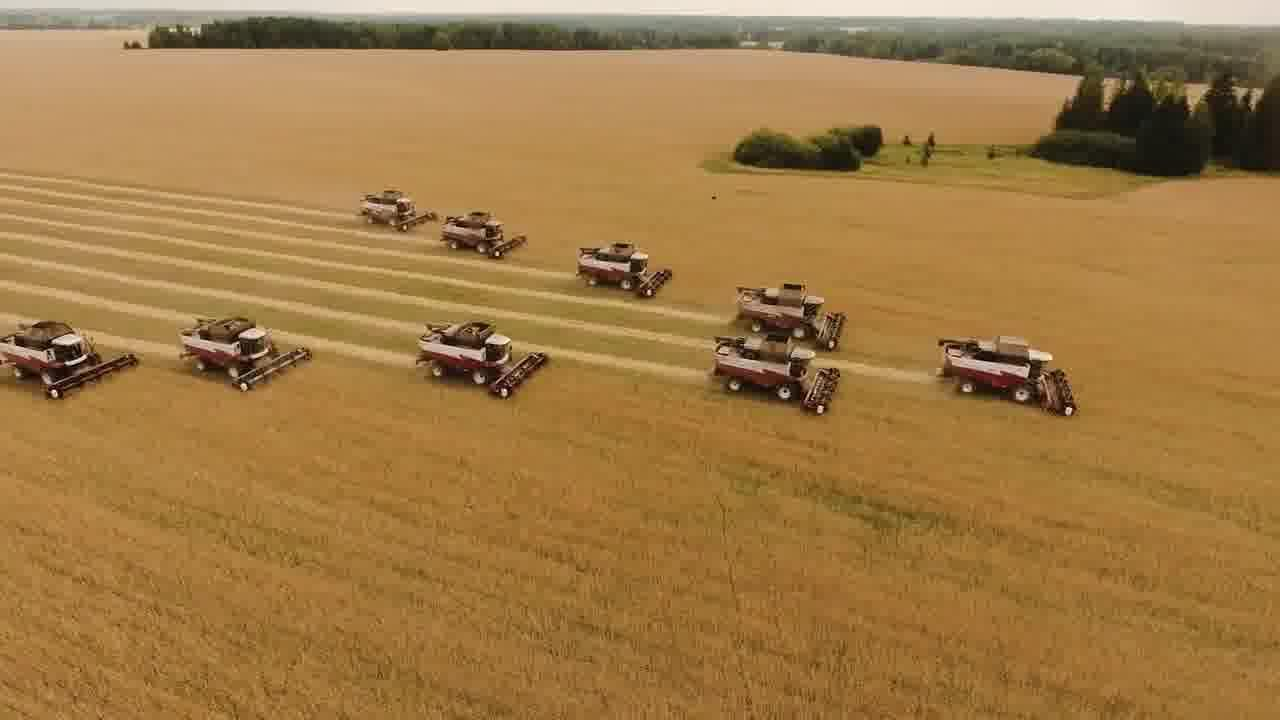combine harvester: (928, 325, 1077, 423), (0, 318, 144, 407), (412, 314, 550, 403), (709, 333, 849, 420), (177, 310, 315, 393), (734, 274, 845, 350), (572, 237, 674, 298), (438, 207, 527, 262), (356, 185, 436, 236)
